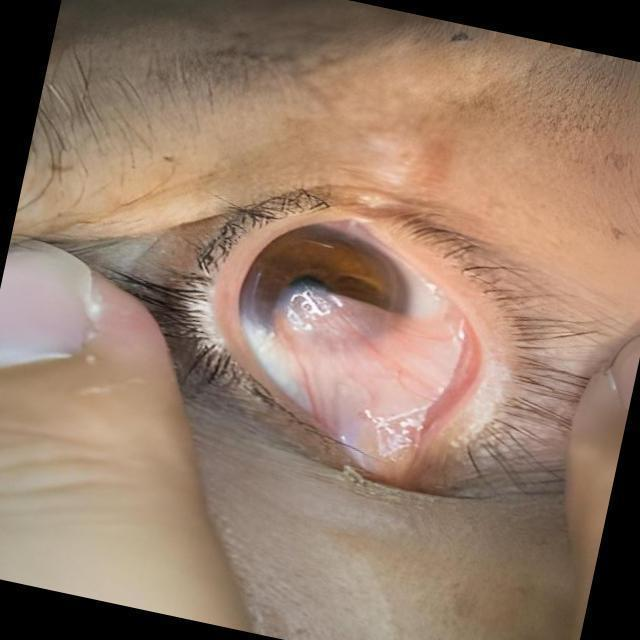Pterygium: (242, 252, 468, 464)
